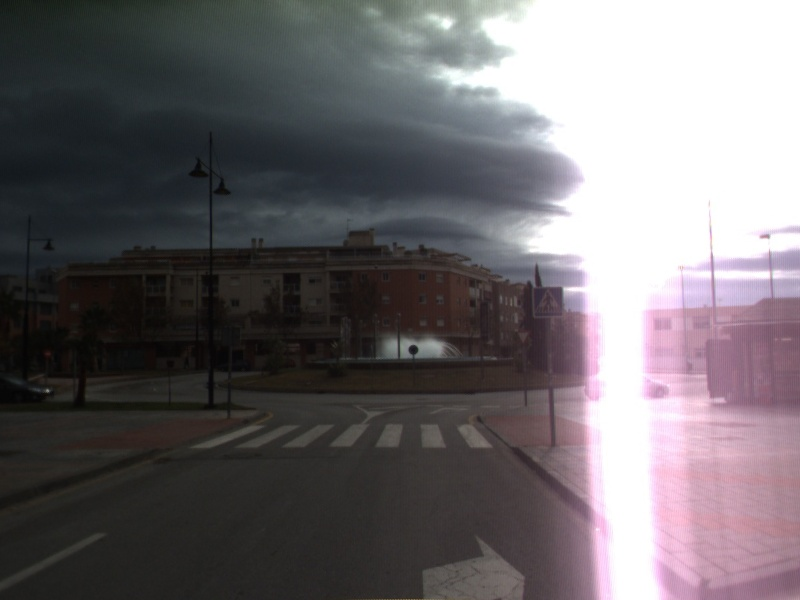RIGHT: (415, 530, 530, 600)
